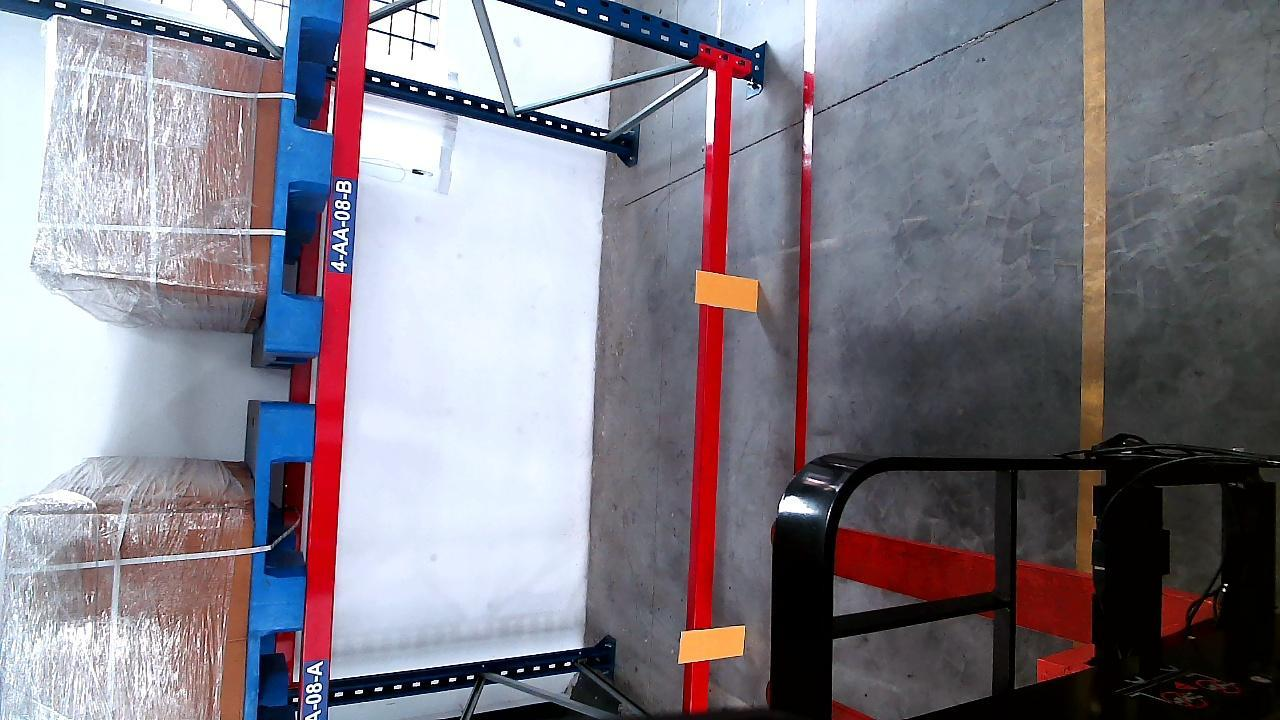red_line: (791, 0, 815, 474)
yellow_line: (1081, 0, 1108, 441)
